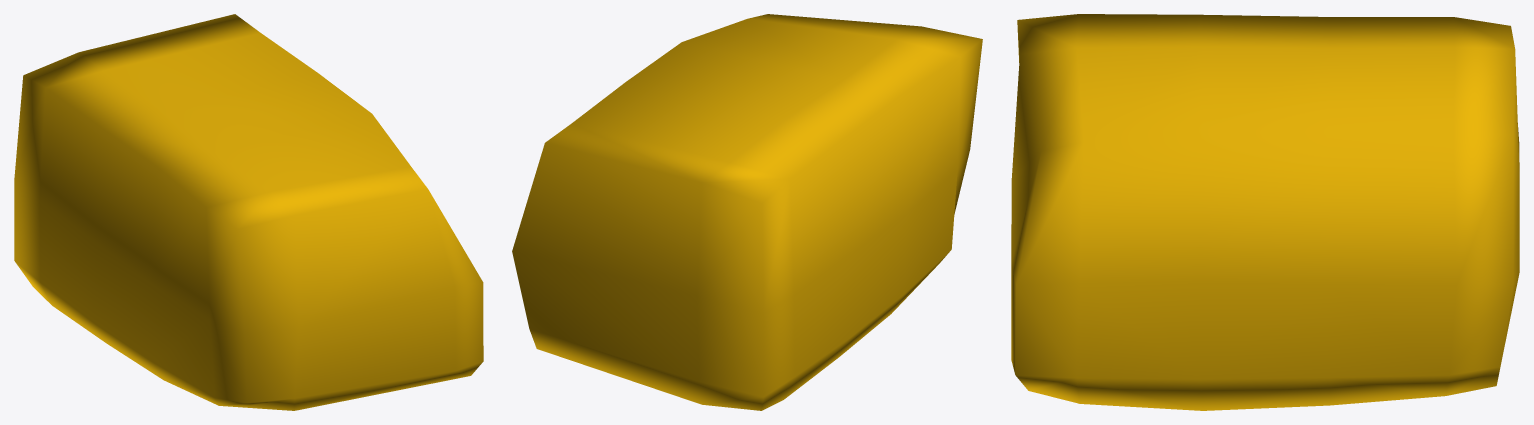
Rendered from Stone_Block_02_Lod1.fbx.
3 views of the same model, side by side, from view 1: azimuth 30°, elevation 25°; view 2: azimuth 150°, elevation 25°; view 3: azimuth 270°, elevation 25° (orthographic). The views are drawn at different scales.
Visible parts, largest first — view 1: Stone_Block_02_Lod1; view 2: Stone_Block_02_Lod1; view 3: Stone_Block_02_Lod1.
Part boxes in pixels (<box>): Stone_Block_02_Lod1: <box>14,14,483,410</box>; Stone_Block_02_Lod1: <box>512,14,982,410</box>; Stone_Block_02_Lod1: <box>1011,14,1519,410</box>.
Size of the model in its own units: 628 by 535 by 949.
